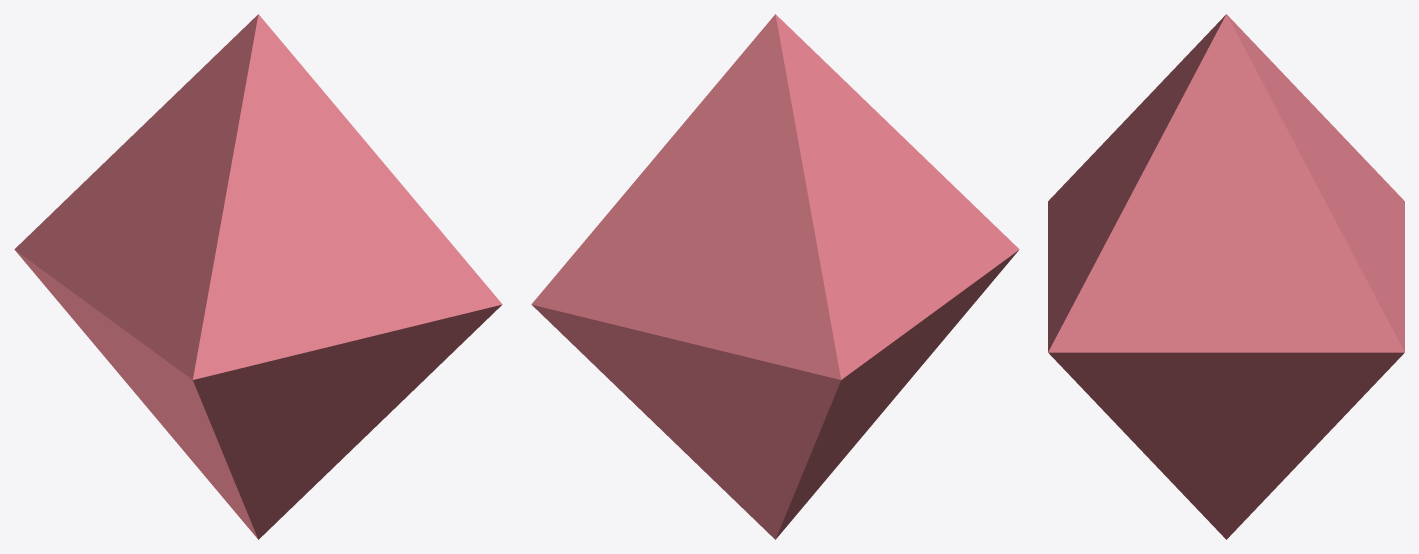
File: boss teste2.fbx
3 views of the same model, side by side, from view 1: azimuth 30°, elevation 25°; view 2: azimuth 150°, elevation 25°; view 3: azimuth 270°, elevation 25° (orthographic).
Visible parts, largest first — view 1: Cube.001; view 2: Cube.001; view 3: Cube.001.
Part boxes in pixels (box(x1,y1,x2,y2)): Cube.001: box(14, 14, 502, 539); Cube.001: box(531, 14, 1019, 539); Cube.001: box(1048, 14, 1404, 539).
Size of the model in its own units: 781 by 1267 by 779.
